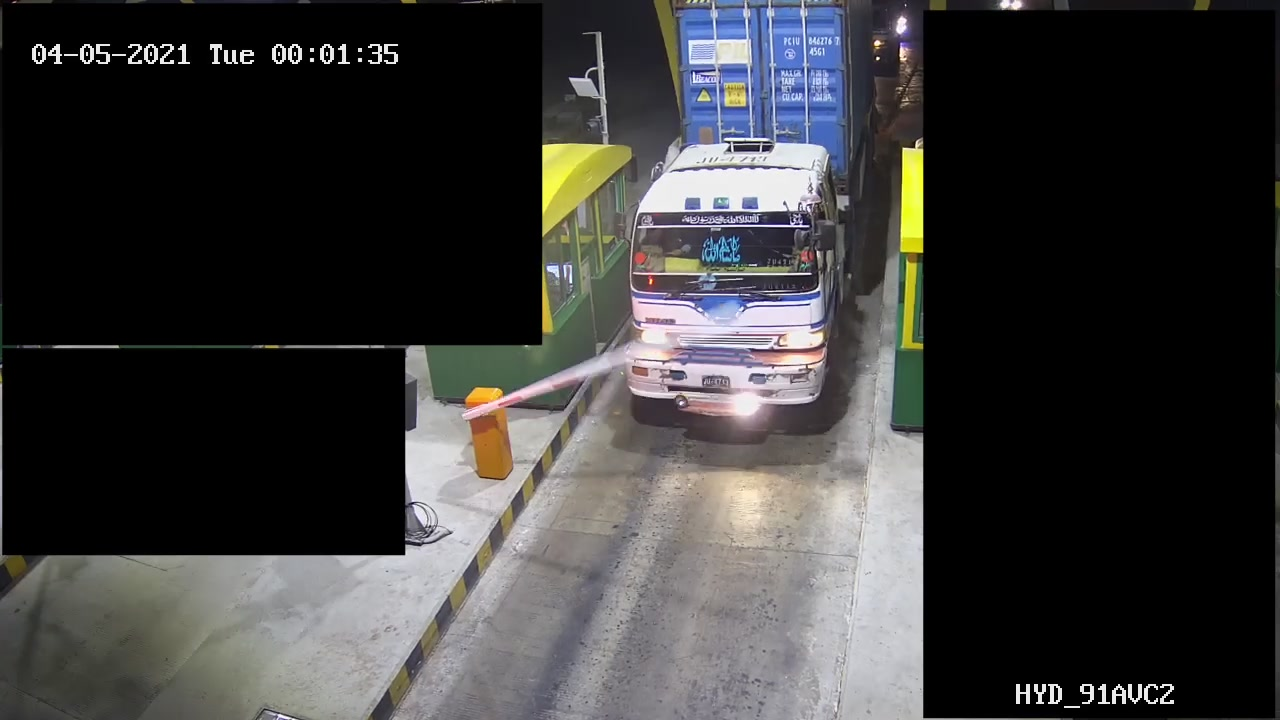F6: (623, 1, 881, 432)
